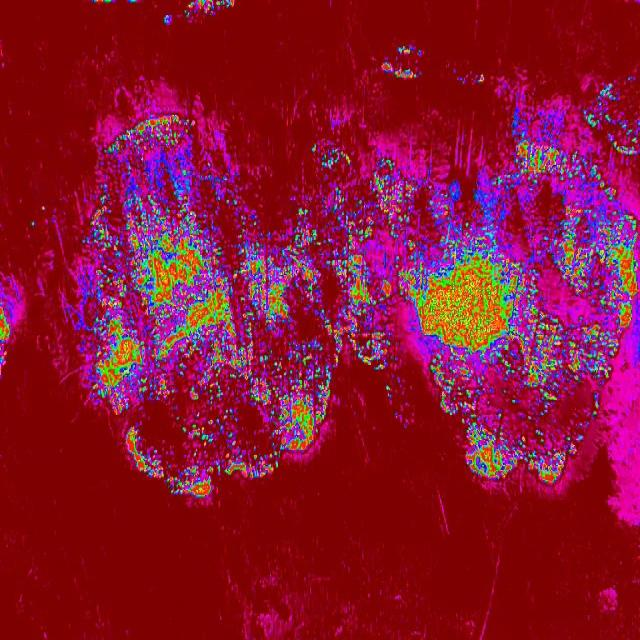fire: (396, 145, 640, 410), (84, 112, 240, 500), (242, 183, 340, 481), (320, 120, 395, 380), (459, 410, 601, 485), (512, 81, 640, 145), (0, 269, 28, 381), (377, 32, 428, 82)
